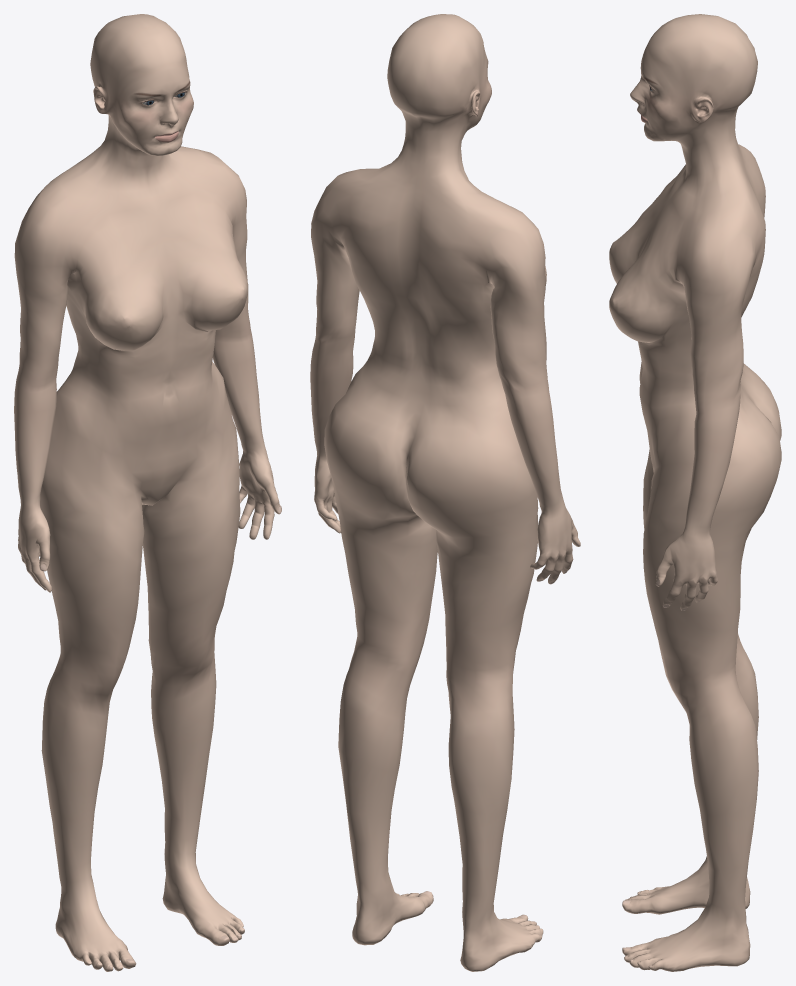
Rendered from woman_north_trial.glb.
3 renders of one model, left to right at view 1: azimuth 30°, elevation 25°; view 2: azimuth 150°, elevation 25°; view 3: azimuth 270°, elevation 25°, orthographic.
Visible parts, largest first — view 1: basemesh_female_body; view 2: basemesh_female_body; view 3: basemesh_female_body.
Part boxes in pixels (bbox=[...]): basemesh_female_body: bbox=[14, 14, 281, 971]; basemesh_female_body: bbox=[310, 14, 580, 971]; basemesh_female_body: bbox=[609, 14, 781, 971].
Bounding box in the file's own units: 0.4951 × 1.76 × 0.2998.
3 materials, 2 textured.
